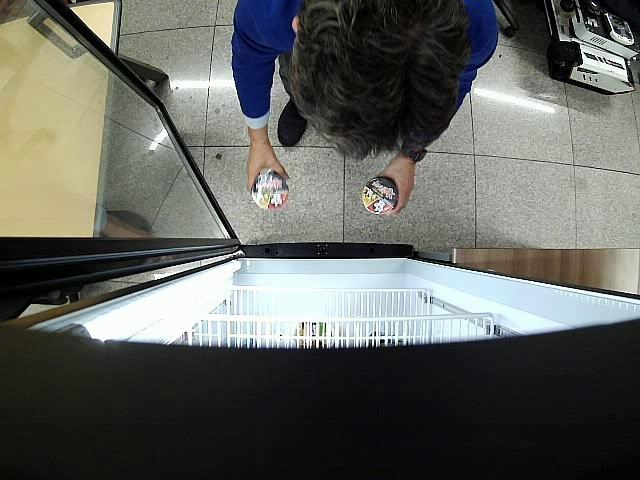08_buldak_S: (251, 171, 289, 209), (362, 176, 398, 214)
